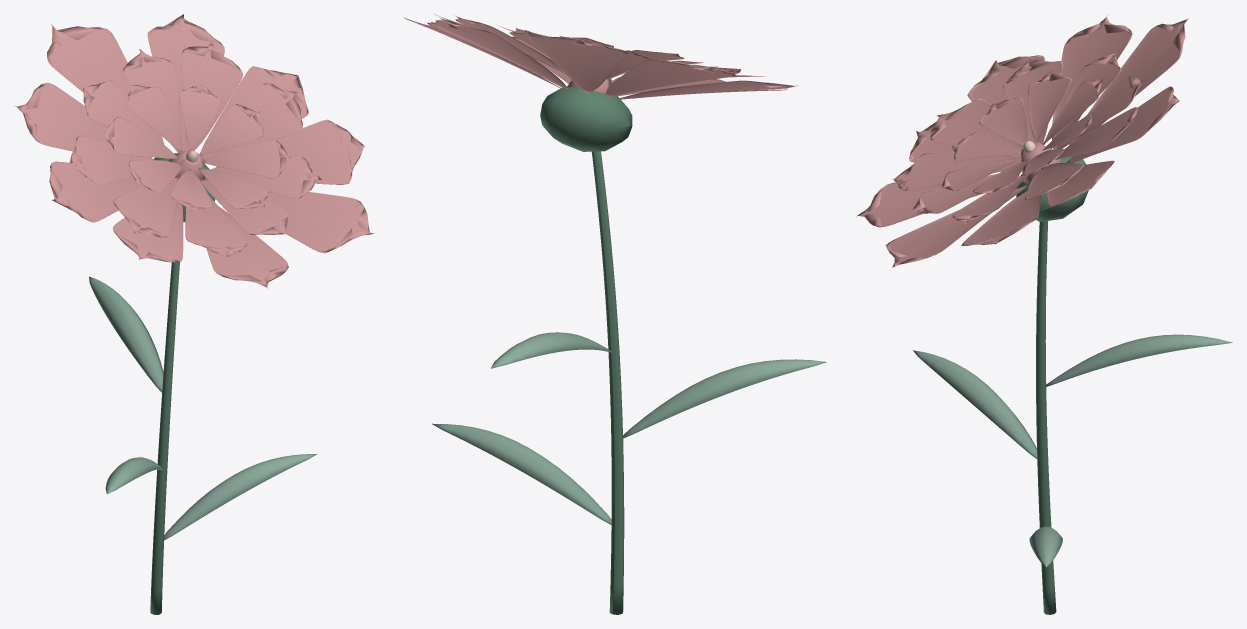
File: carnation-common-v2.glb
3 views of the same model, side by side, from view 1: azimuth 30°, elevation 25°; view 2: azimuth 150°, elevation 25°; view 3: azimuth 270°, elevation 25° (orthographic). The views are drawn at different scales.
Parts seen in each view (by area): view 1: carnation-common-v2-petal, carnation-common-v2-leaf, carnation-common-v2-stem; view 2: carnation-common-v2-petal, carnation-common-v2-stem, carnation-common-v2-leaf; view 3: carnation-common-v2-petal, carnation-common-v2-leaf, carnation-common-v2-stem.
Boxes of the visible parts, <box> form: carnation-common-v2-petal: <box>14,14,374,287</box>; carnation-common-v2-leaf: <box>89,276,316,540</box>; carnation-common-v2-stem: <box>150,153,215,614</box>; carnation-common-v2-petal: <box>403,14,798,99</box>; carnation-common-v2-stem: <box>540,87,632,614</box>; carnation-common-v2-leaf: <box>432,332,826,524</box>; carnation-common-v2-petal: <box>856,15,1188,267</box>; carnation-common-v2-leaf: <box>913,334,1232,567</box>; carnation-common-v2-stem: <box>1016,156,1088,614</box>.
Bounding box in the file's own units: 1.03 × 1.73 × 1.02.
